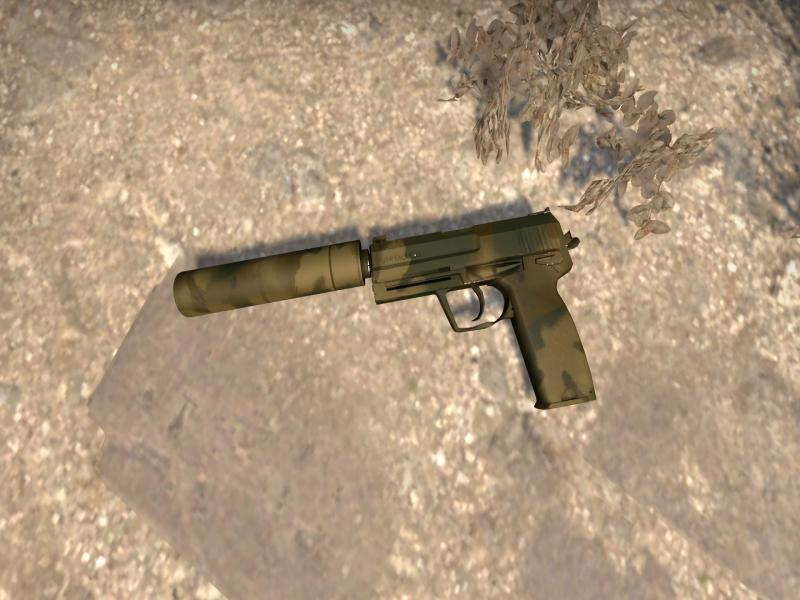USP: (173, 208, 597, 408)
